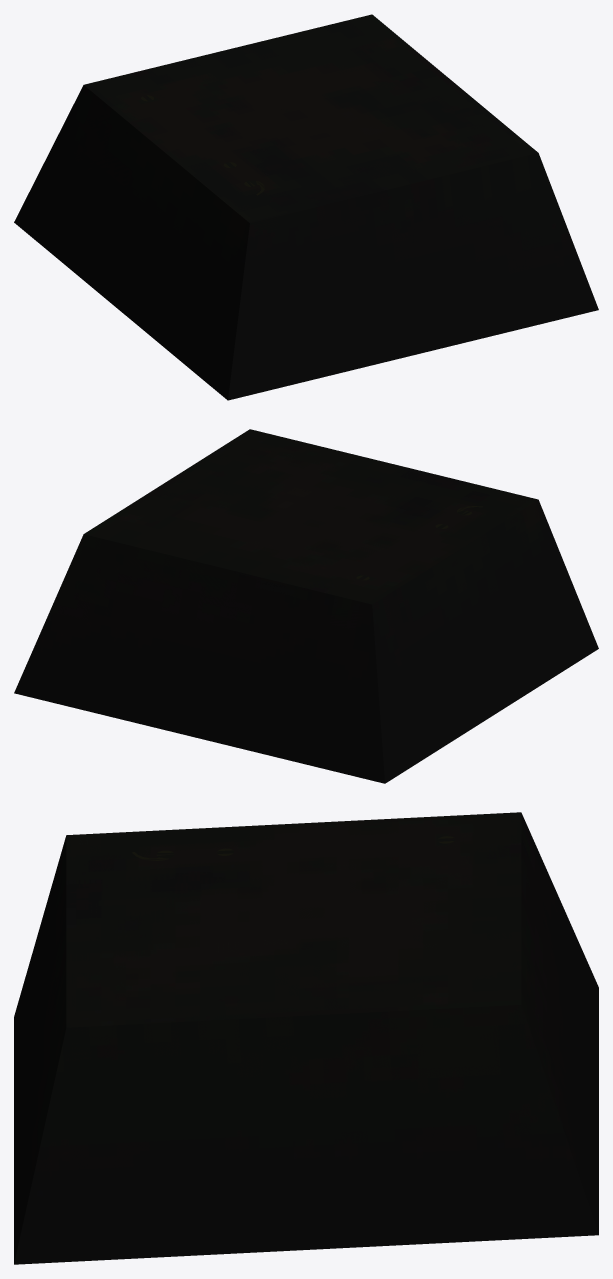
The model's file is link_41__key-47.glb.
The picture shows the model from 3 angles, top to bottom: view 1: azimuth 30°, elevation 25°; view 2: azimuth 150°, elevation 25°; view 3: azimuth 270°, elevation 25°; orthographic projection. The views are drawn at different scales.
Parts seen in each view (by area): view 1: world; view 2: world; view 3: world.
Boxes of the visible parts, x1,y1,x2,y2 form: world: [14, 14, 598, 400]; world: [14, 429, 598, 783]; world: [14, 812, 598, 1264].
Bounding box in the file's own units: 0.0719 × 0.0315 × 0.0718.
Materials: 1 (1 with a texture image).
